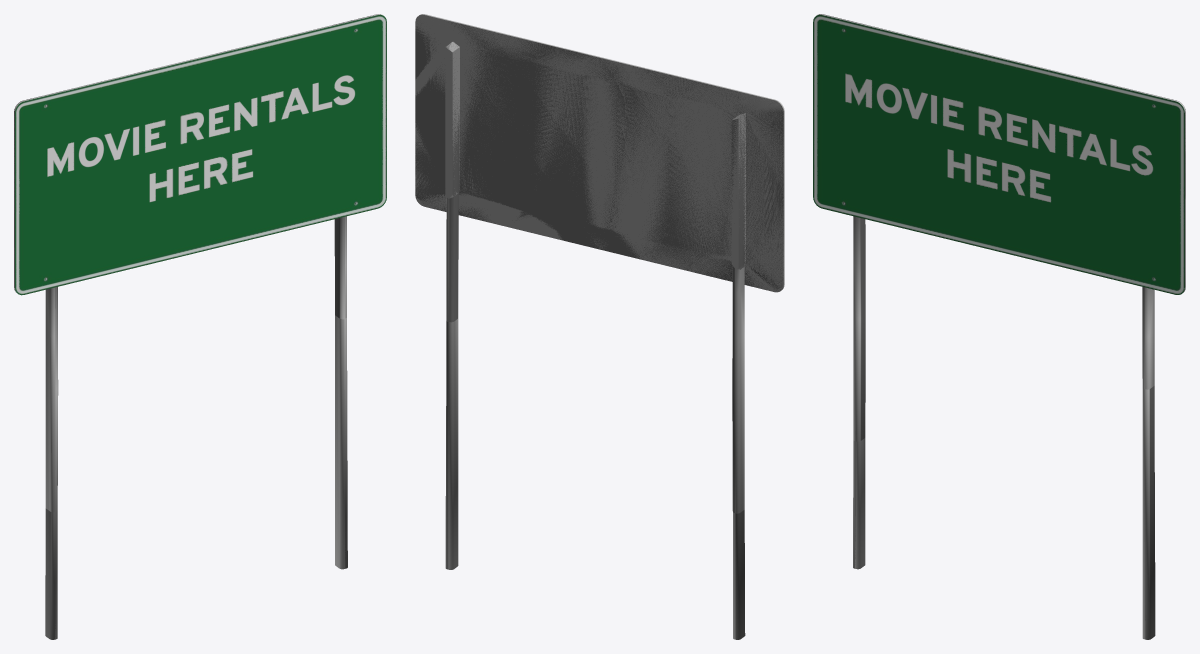
Rendered from mve_rntl_sn.dae.
3 renders of one model, left to right at view 1: azimuth 30°, elevation 25°; view 2: azimuth 150°, elevation 25°; view 3: azimuth 330°, elevation 25°, orthographic.
Visible parts, largest first — view 1: mve_rntl_sn_a500, mve_rntl_sn_a250, mve_rntl_sn_a50; view 2: mve_rntl_sn_a500, mve_rntl_sn_a250, mve_rntl_sn_a50; view 3: mve_rntl_sn_a500, mve_rntl_sn_a250, mve_rntl_sn_a50.
Boxes of the visible parts, left/top/right/bottom form: mve_rntl_sn_a500: left=14, top=14, right=386, bottom=639; mve_rntl_sn_a250: left=14, top=14, right=386, bottom=639; mve_rntl_sn_a50: left=14, top=15, right=386, bottom=293; mve_rntl_sn_a500: left=415, top=14, right=784, bottom=639; mve_rntl_sn_a250: left=415, top=14, right=784, bottom=639; mve_rntl_sn_a50: left=415, top=14, right=784, bottom=291; mve_rntl_sn_a500: left=813, top=15, right=1185, bottom=639; mve_rntl_sn_a250: left=813, top=14, right=1185, bottom=639; mve_rntl_sn_a50: left=813, top=14, right=1184, bottom=274.
Bounding box in the file's own units: 2.96 × 0.1183 × 4.16.
